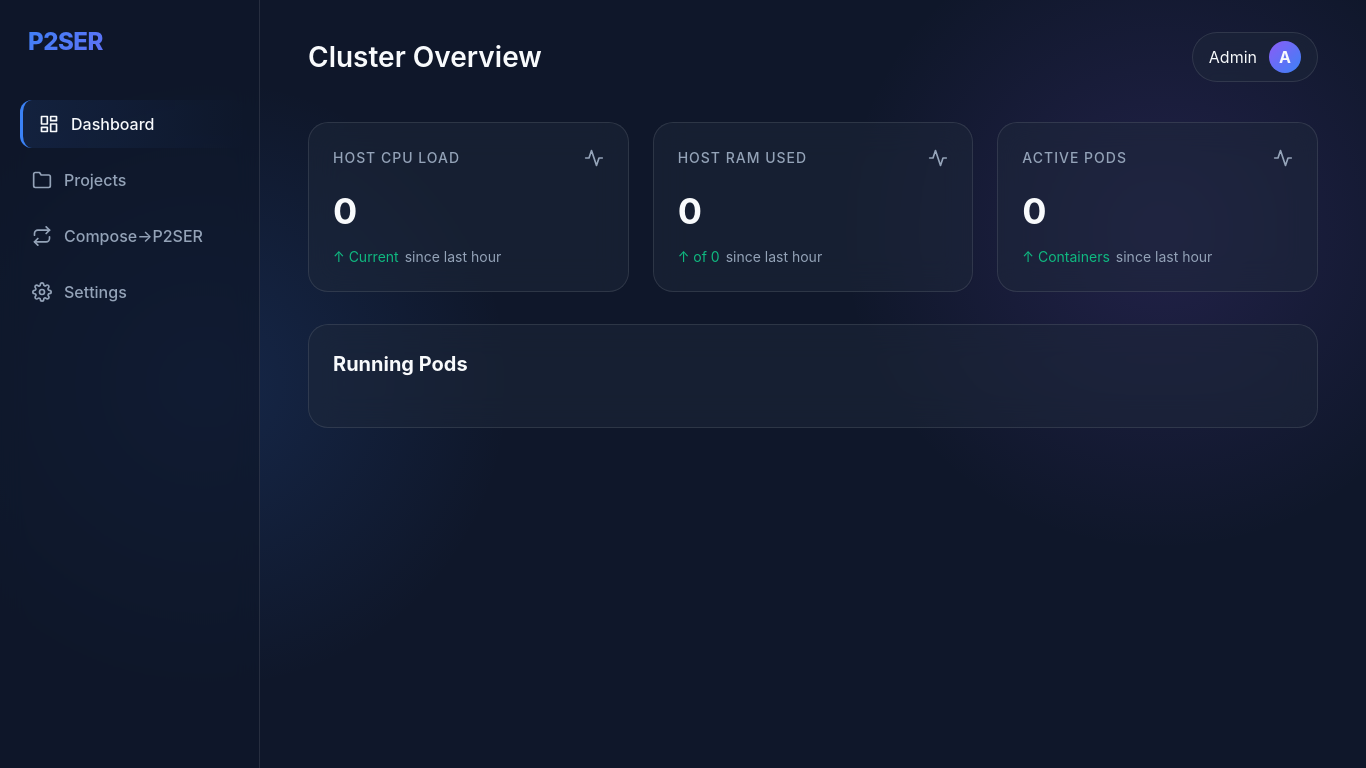
Test case: App: Navigation › should switch to Converter tab
Step 1. Click the list item "Compose→P2SER" → (117, 236), box [32,226,203,246]
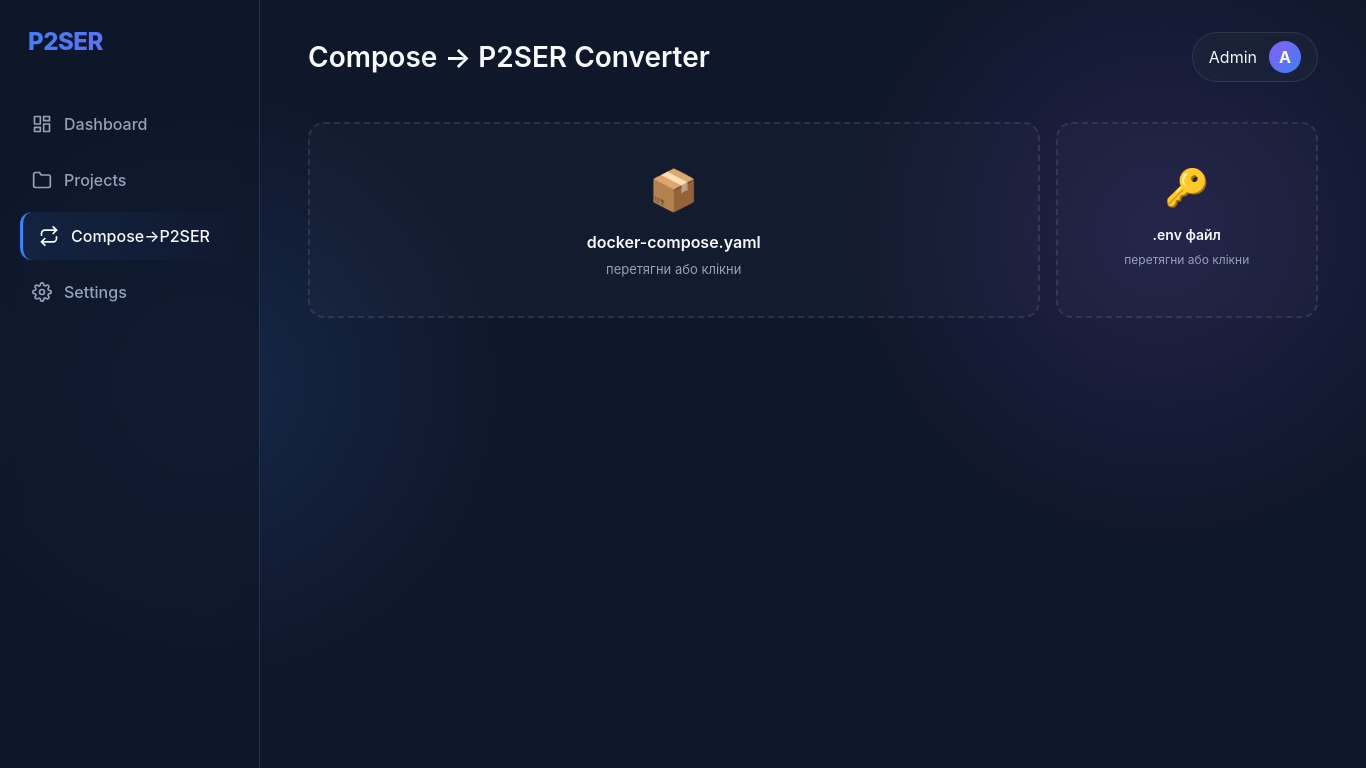
Expected: the heading "Compose → P2SER Converter" is shown, [308,36,710,78]
